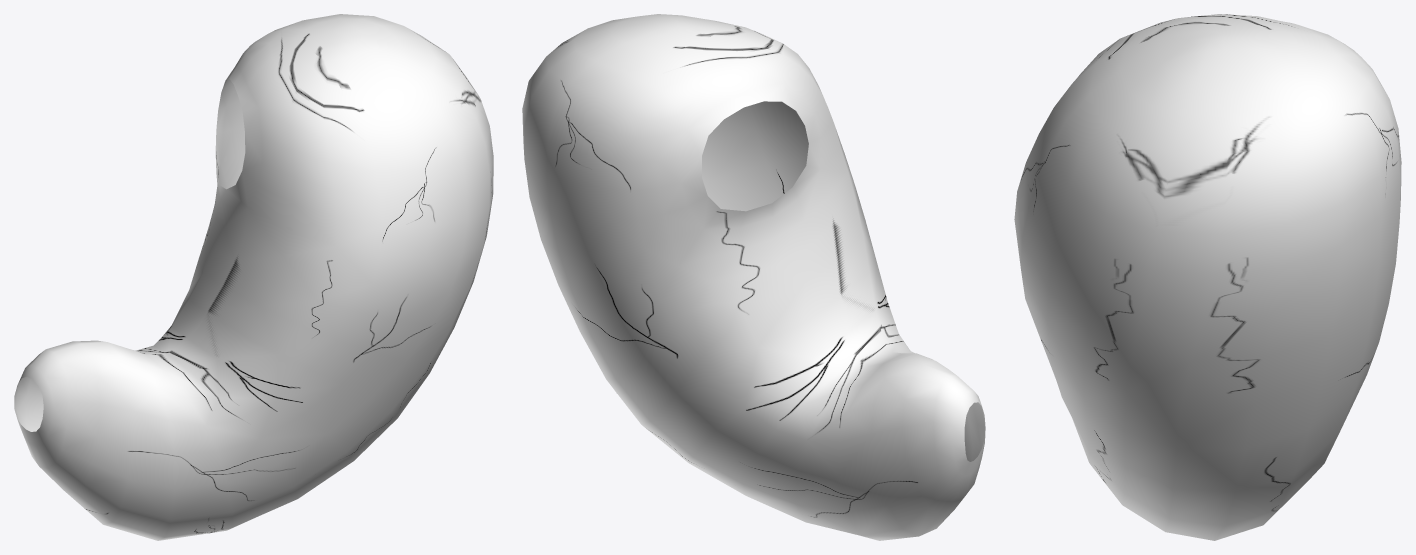
The model's file is stomach_AR.fbx.
3 views of the same model, side by side, from view 1: azimuth 30°, elevation 25°; view 2: azimuth 150°, elevation 25°; view 3: azimuth 270°, elevation 25° (orthographic). The views are drawn at different scales.
Parts seen in each view (by area): view 1: polySurface13; view 2: polySurface13; view 3: polySurface13.
Part boxes in pixels (x1=…): polySurface13: x1=14, y1=14, x2=493, y2=540; polySurface13: x1=522, y1=14, x2=985, y2=540; polySurface13: x1=1014, y1=14, x2=1401, y2=540.
Size of the model in its own units: 10.47 by 10.27 by 6.38.
1 material, 1 textured.
